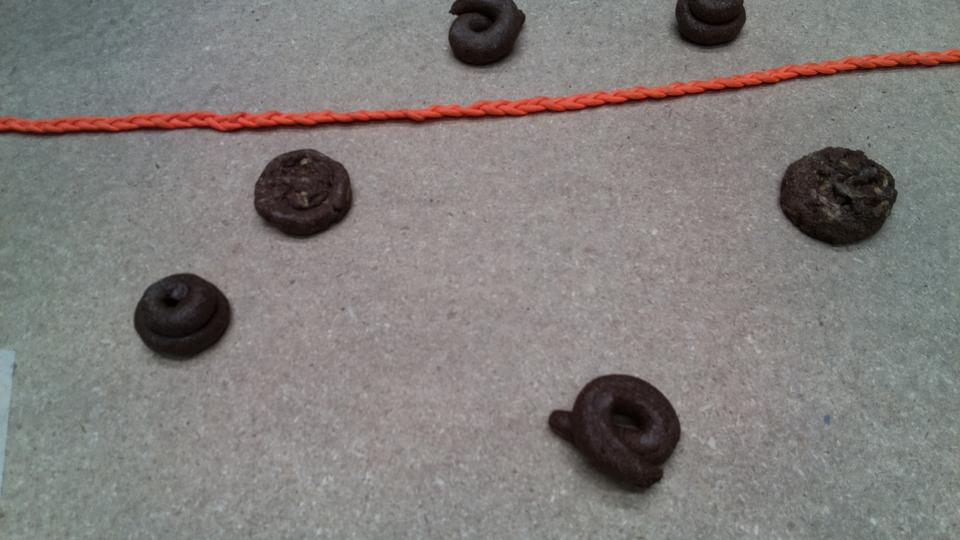poop: (545, 361, 685, 501), (777, 143, 903, 255), (240, 145, 363, 241), (127, 269, 236, 367), (444, 1, 529, 66)
rope: (2, 105, 474, 141), (569, 77, 801, 113), (811, 48, 960, 90), (724, 63, 928, 93), (427, 96, 623, 121)
